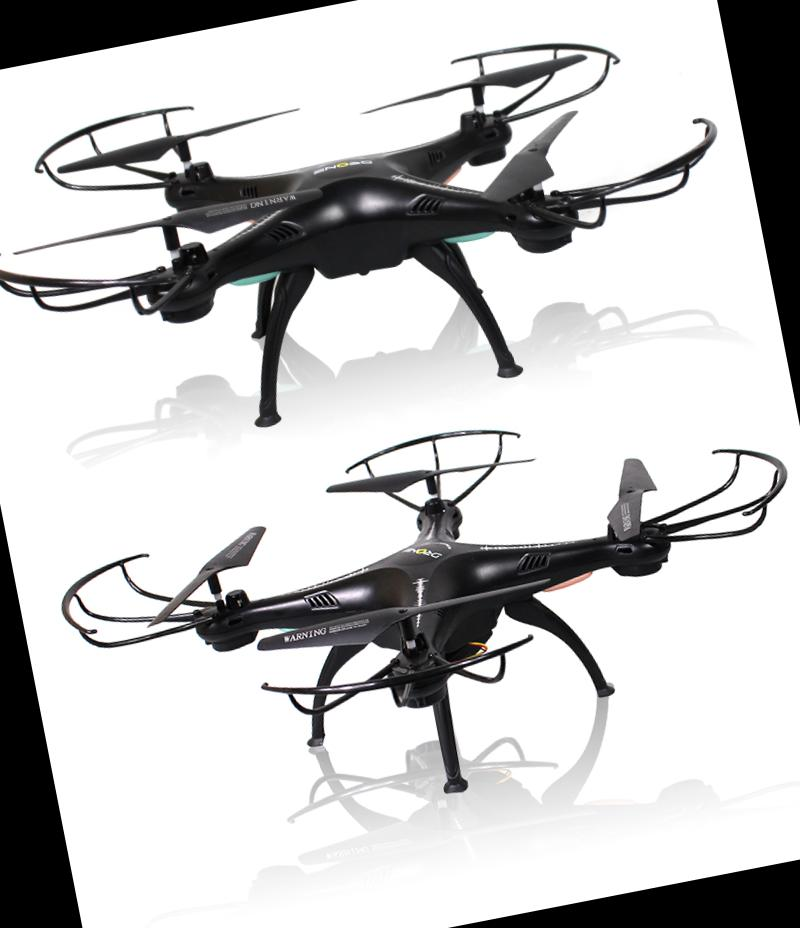drone: (22, 362, 800, 858), (0, 0, 768, 487)
